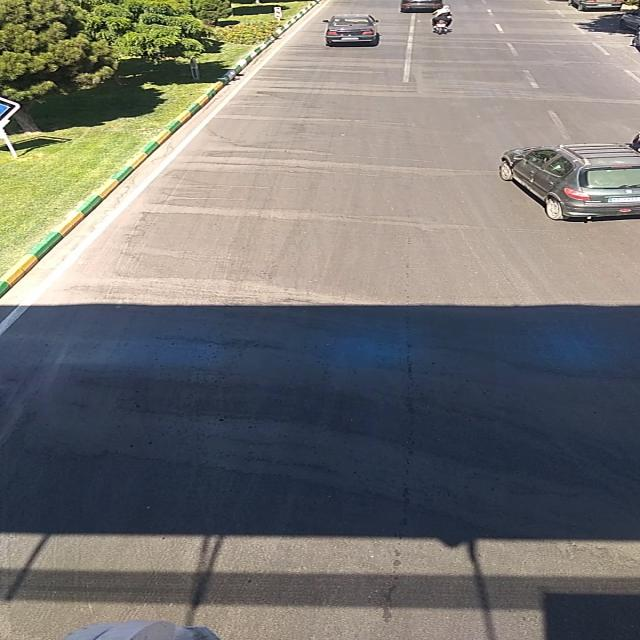car: (494, 140, 639, 220), (322, 14, 384, 46), (560, 0, 625, 12), (396, 0, 444, 12)
motor: (428, 5, 452, 36)
